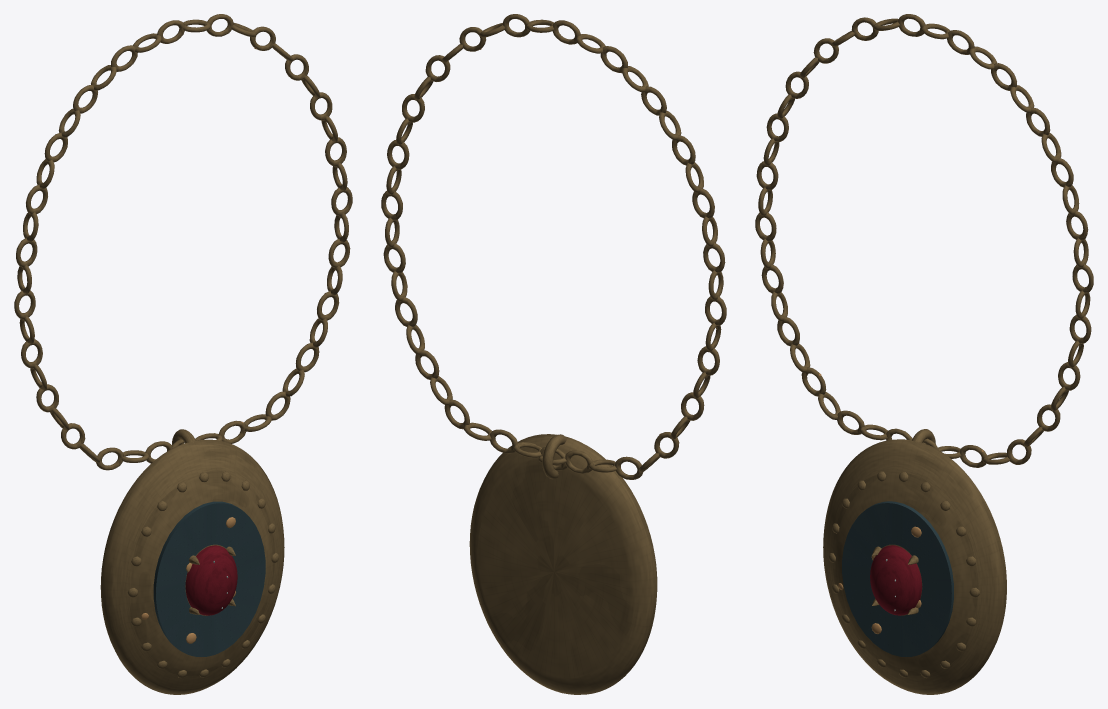
The picture shows the model from 3 angles, left to right: view 1: azimuth 30°, elevation 25°; view 2: azimuth 150°, elevation 25°; view 3: azimuth 330°, elevation 25°; orthographic projection. The views are drawn at different scales.
Parts seen in each view (by area): view 1: aged alloy edge, woven wool, polished cabochon stone; view 2: aged alloy edge; view 3: aged alloy edge, woven wool, polished cabochon stone.
Part boxes in pixels (box(x1,y1,x2,y2)): aged alloy edge: box(14, 14, 352, 694); woven wool: box(153, 501, 265, 656); polished cabochon stone: box(185, 545, 237, 615); aged alloy edge: box(381, 14, 726, 694); aged alloy edge: box(755, 14, 1093, 694); woven wool: box(842, 501, 953, 656); polished cabochon stone: box(870, 545, 922, 615).
Bounding box in the file's own units: 0.1598 × 0.3015 × 0.0377.
5 materials, 3 textured.
